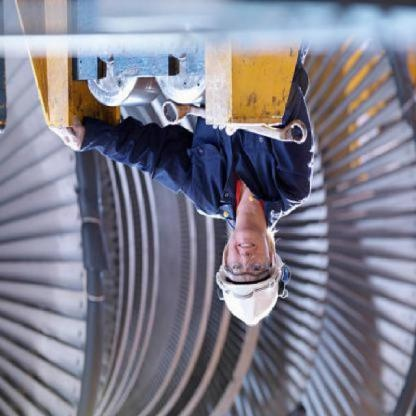white: (207, 259, 296, 328)
